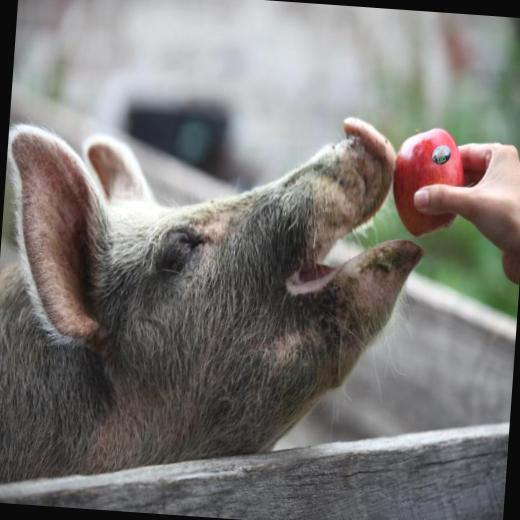Apple: (390, 126, 469, 240)
